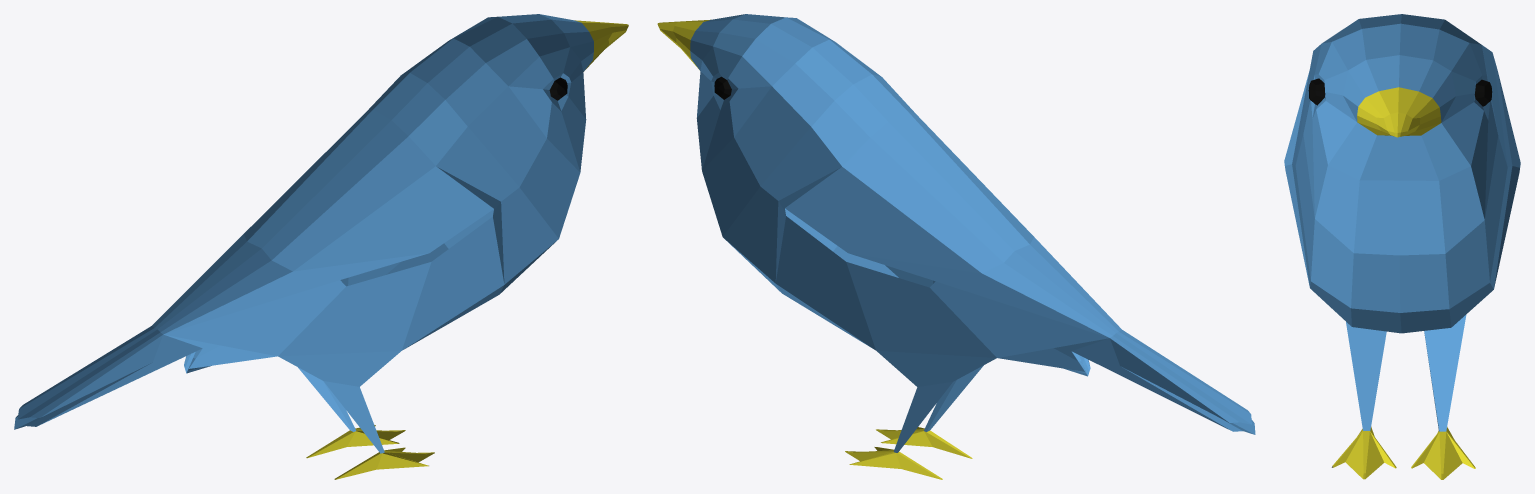
Rendered from bird.obj.
The picture shows the model from 3 angles, left to right: view 1: azimuth 30°, elevation 25°; view 2: azimuth 150°, elevation 25°; view 3: azimuth 270°, elevation 25°; orthographic projection. The views are drawn at different scales.
Parts seen in each view (by area): view 1: polySurface23 polySurface31, polySurface23 polySurface28, polySurface23 polySurface27, polySurface23 polySurface26; view 2: polySurface23 polySurface31, polySurface23 polySurface27, polySurface23 polySurface28, polySurface23 polySurface26; view 3: polySurface23 polySurface31, polySurface23 polySurface26, polySurface23 polySurface27, polySurface23 polySurface28, polySurface33 polySurface23, polySurface23 polySurface32.
Part boxes in pixels (left/top/right/bottom): polySurface23 polySurface31: left=14, top=14, right=593, bottom=453; polySurface23 polySurface28: left=334, top=447, right=434, bottom=479; polySurface23 polySurface27: left=306, top=425, right=405, bottom=458; polySurface23 polySurface26: left=575, top=20, right=628, bottom=69; polySurface23 polySurface31: left=690, top=14, right=1255, bottom=452; polySurface23 polySurface27: left=845, top=447, right=942, bottom=479; polySurface23 polySurface28: left=876, top=427, right=972, bottom=458; polySurface23 polySurface26: left=657, top=19, right=710, bottom=68; polySurface23 polySurface31: left=1284, top=14, right=1520, bottom=431; polySurface23 polySurface26: left=1357, top=87, right=1441, bottom=137; polySurface23 polySurface27: left=1411, top=427, right=1475, bottom=479; polySurface23 polySurface28: left=1332, top=426, right=1396, bottom=479; polySurface33 polySurface23: left=1474, top=79, right=1492, bottom=106; polySurface23 polySurface32: left=1308, top=78, right=1325, bottom=105.
Bounding box in the file's own units: 3.41 × 2.15 × 0.8868.
4 materials, 3 textured.
